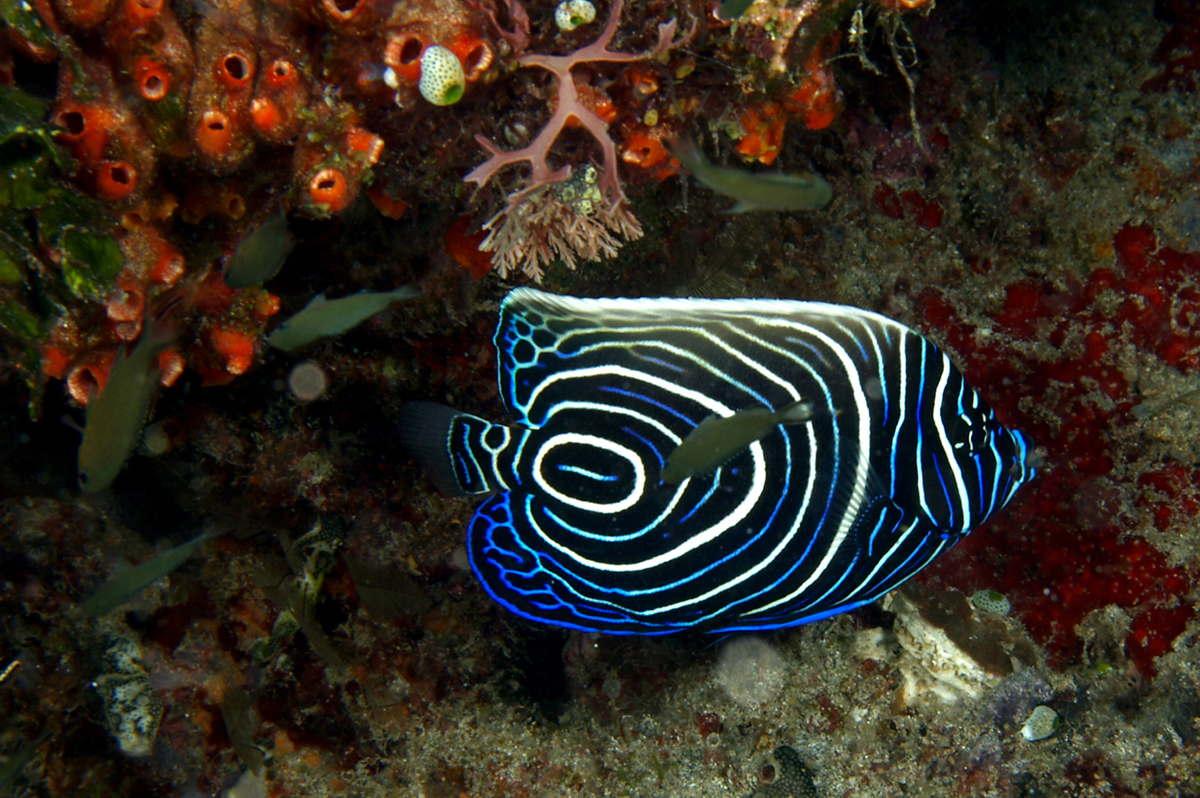Pomacanthus_imperator: (384, 259, 1068, 659)
